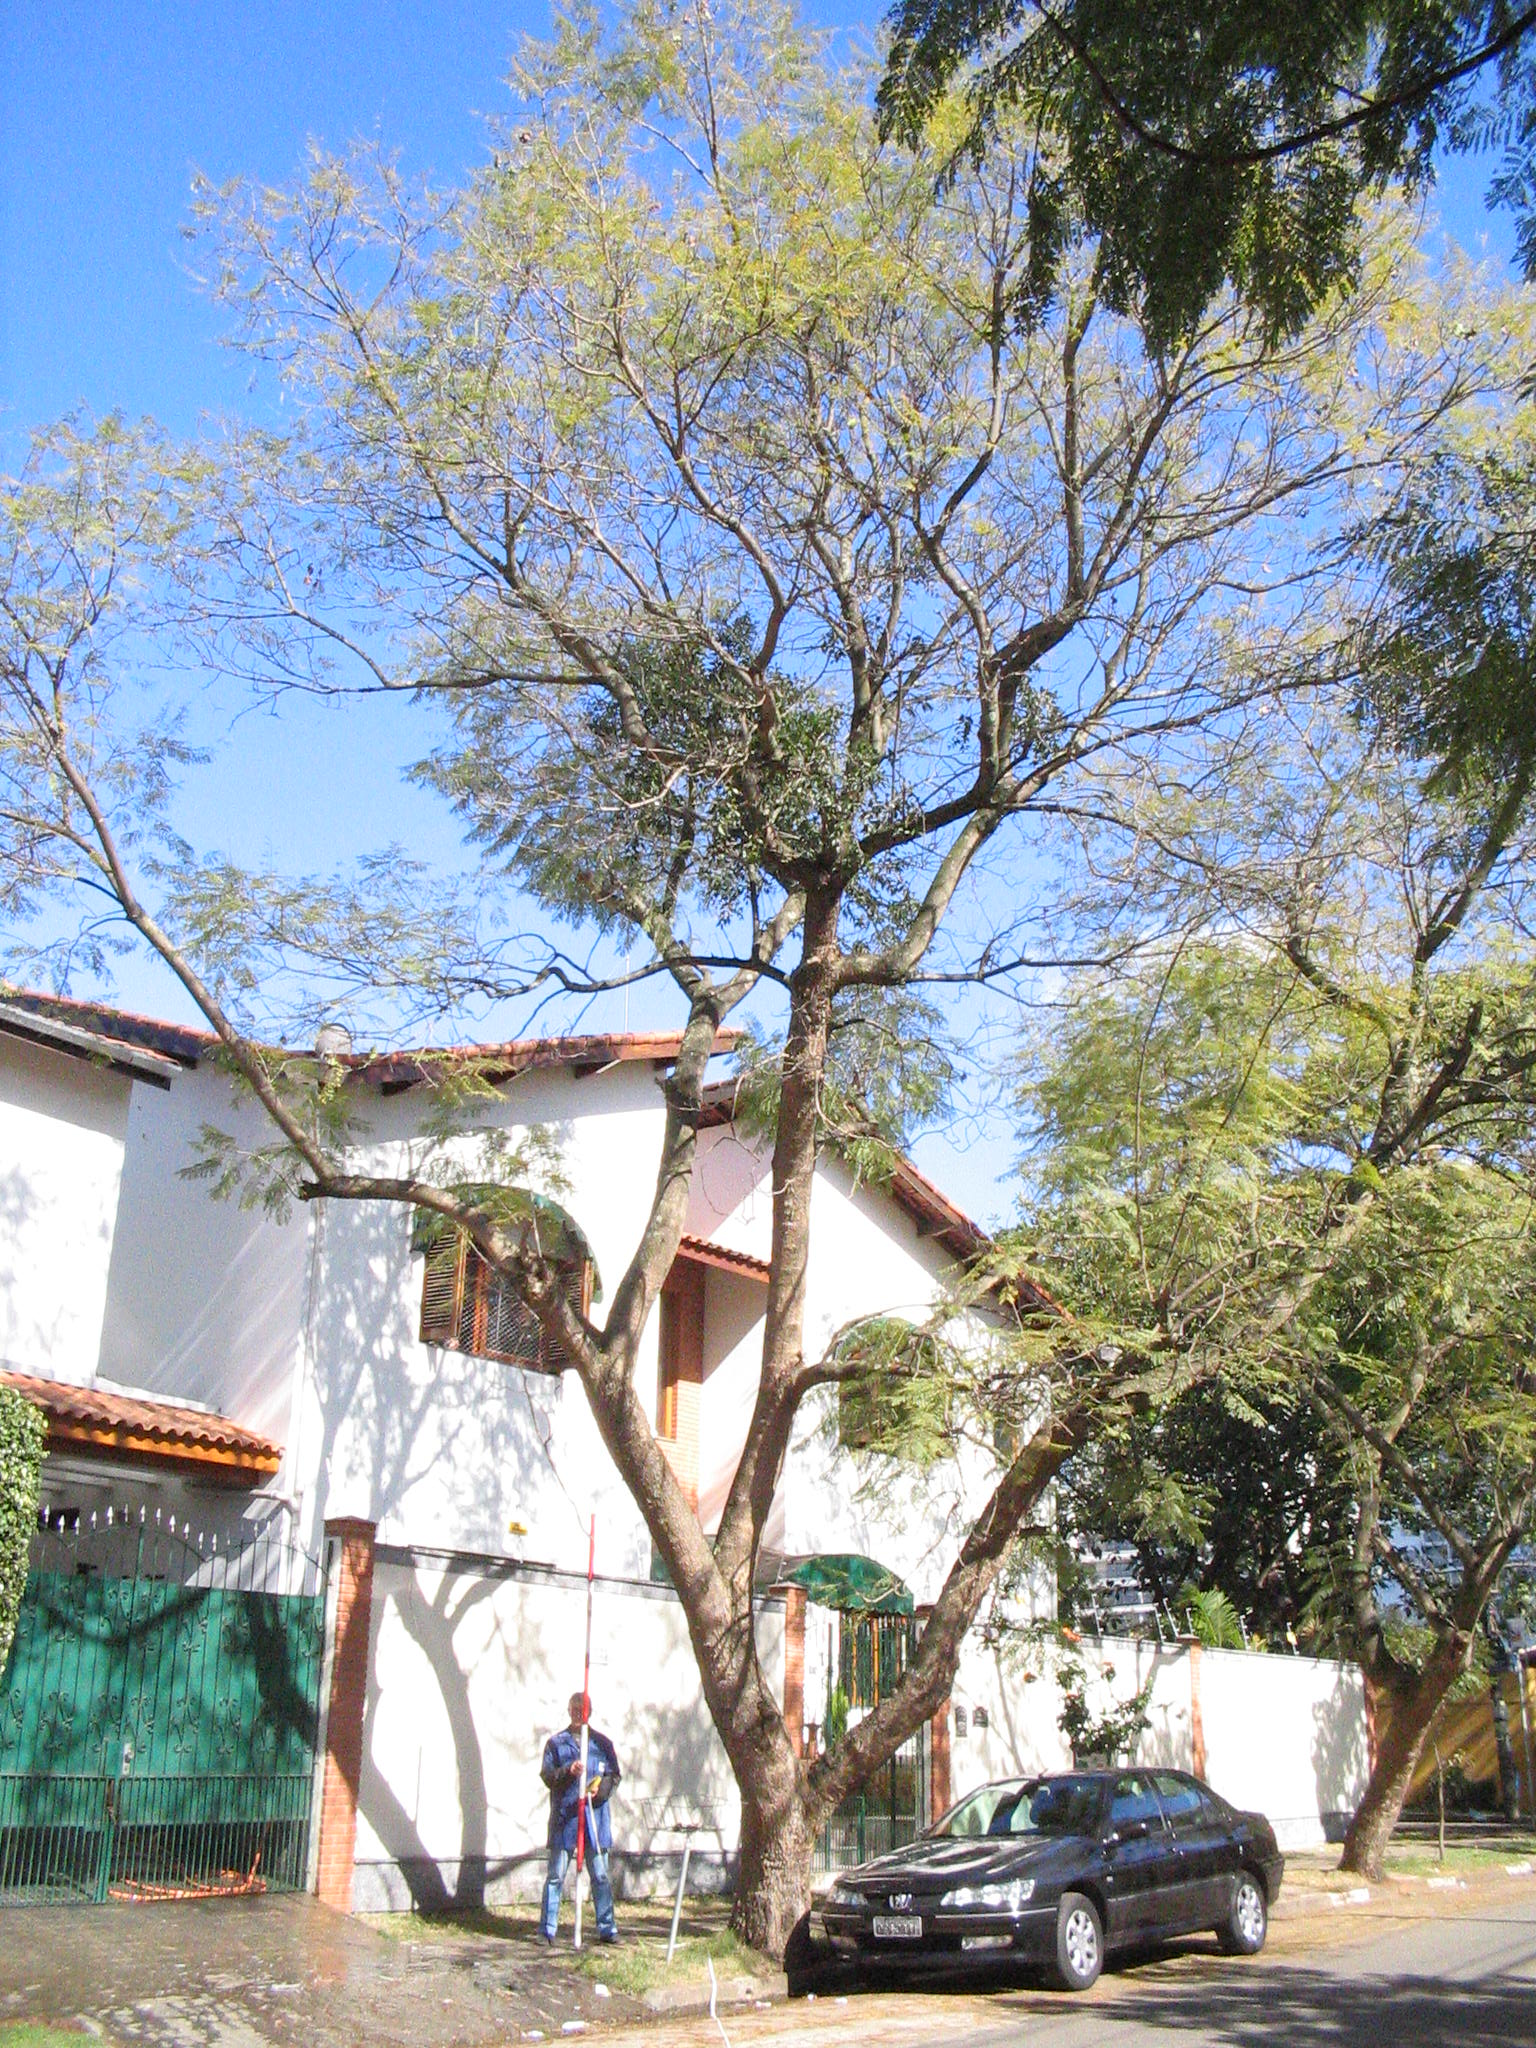crown: (11, 15, 1509, 1419)
stem: (695, 1769, 858, 1951), (1325, 1685, 1463, 1875)
stick: (563, 1509, 608, 1956)
tree: (3, 10, 1509, 1951)
